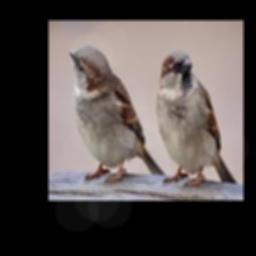Sparrow: (69, 45, 166, 183), (155, 49, 237, 187)
